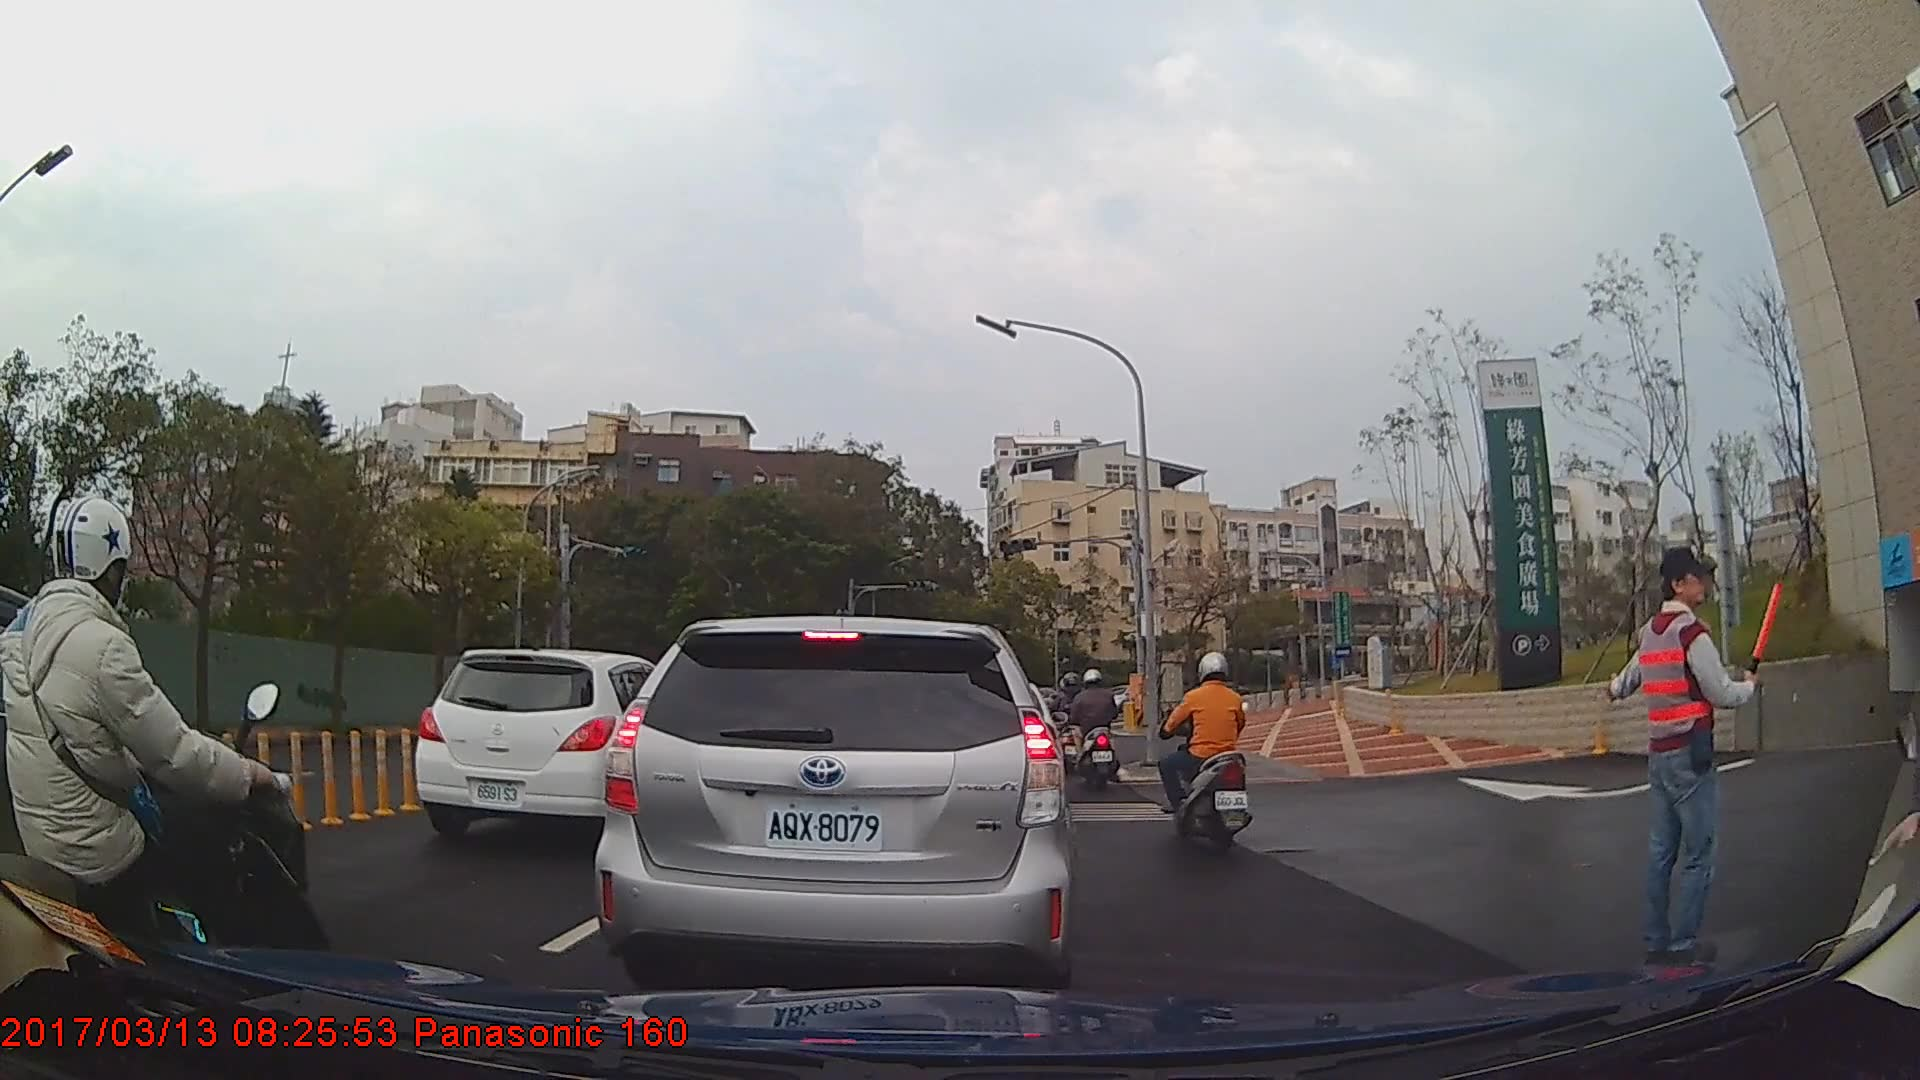pedestrian: (1608, 546, 1786, 971)
rider: (1, 496, 354, 1080), (1157, 645, 1260, 852), (1068, 664, 1120, 794)
vehicle: (591, 615, 1075, 984), (414, 648, 708, 844)
